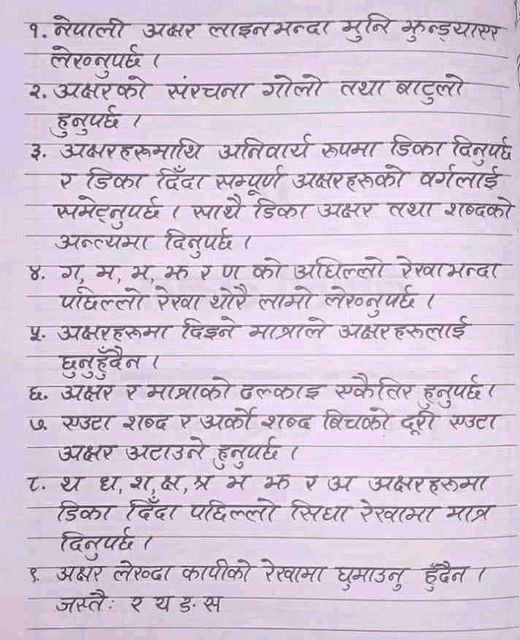text: (55, 134, 209, 162), (41, 41, 147, 77), (400, 13, 505, 49), (49, 196, 165, 228), (292, 160, 409, 191), (336, 315, 473, 341), (321, 283, 421, 318), (367, 468, 492, 496), (394, 253, 508, 283), (49, 74, 156, 103), (290, 255, 392, 285), (216, 131, 314, 162), (48, 9, 133, 44), (54, 347, 144, 380), (165, 72, 257, 103), (54, 526, 136, 560), (54, 319, 175, 342), (185, 496, 283, 524), (159, 224, 238, 258), (333, 560, 409, 595), (45, 105, 128, 137), (415, 164, 505, 193), (53, 287, 149, 314), (358, 495, 441, 526), (396, 70, 469, 105), (334, 371, 416, 402), (146, 375, 236, 403), (214, 436, 288, 470), (54, 229, 153, 254), (260, 555, 330, 589), (451, 130, 513, 168), (259, 69, 328, 103), (420, 373, 489, 407), (320, 405, 399, 434), (214, 165, 290, 195), (236, 378, 327, 402), (80, 162, 147, 194), (443, 193, 516, 222), (180, 557, 257, 584), (247, 314, 330, 339), (124, 438, 210, 462), (251, 192, 313, 224), (113, 556, 177, 587), (52, 495, 119, 524), (340, 11, 396, 44), (420, 557, 473, 591), (288, 499, 354, 526), (389, 129, 448, 159), (180, 314, 239, 344), (205, 15, 273, 41), (140, 16, 205, 43), (150, 162, 209, 191), (190, 193, 245, 223), (123, 498, 186, 524), (59, 377, 119, 404), (319, 135, 383, 160), (259, 285, 318, 312), (258, 409, 319, 435), (317, 196, 377, 222), (54, 440, 119, 464), (270, 15, 336, 38), (199, 407, 259, 432), (150, 286, 203, 314), (384, 197, 442, 222), (55, 411, 117, 434), (335, 73, 392, 98), (121, 410, 176, 435), (54, 588, 109, 613), (446, 411, 504, 434), (207, 284, 254, 312), (52, 562, 108, 584), (444, 500, 496, 523), (399, 409, 439, 437), (247, 256, 286, 282), (326, 467, 358, 496), (218, 253, 247, 283), (262, 469, 294, 494), (55, 471, 88, 495), (222, 469, 254, 493), (91, 257, 119, 284), (158, 468, 185, 496), (162, 260, 192, 284), (50, 169, 81, 191), (57, 261, 87, 283), (126, 469, 154, 491), (200, 591, 225, 615), (95, 470, 121, 493), (129, 260, 153, 283), (121, 376, 142, 402), (195, 262, 218, 285), (22, 17, 42, 43), (190, 472, 217, 491), (302, 470, 322, 495), (179, 592, 198, 618), (152, 593, 173, 615), (178, 407, 195, 434), (24, 472, 42, 497), (23, 259, 43, 281), (23, 564, 45, 584), (23, 141, 43, 162), (128, 593, 147, 615), (26, 79, 42, 105), (24, 320, 42, 343), (25, 414, 47, 432), (25, 384, 44, 403)
